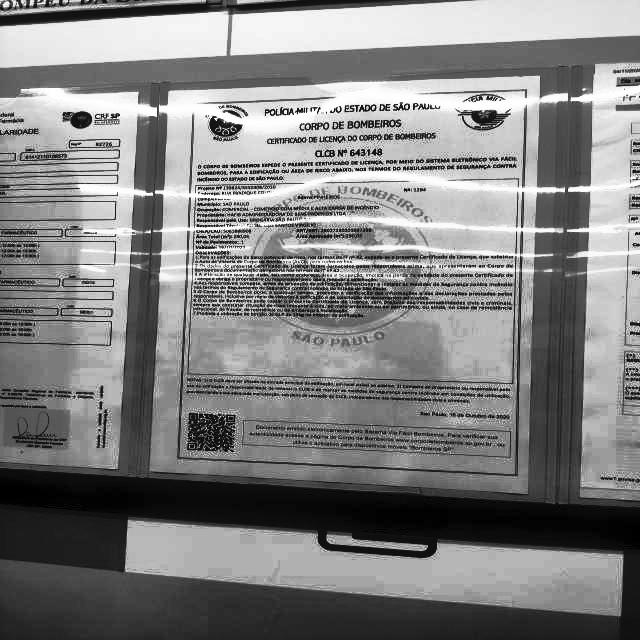qr_code: (187, 414, 235, 453)
